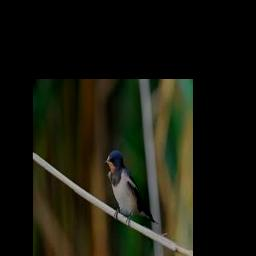Swallow: (103, 150, 158, 226)
